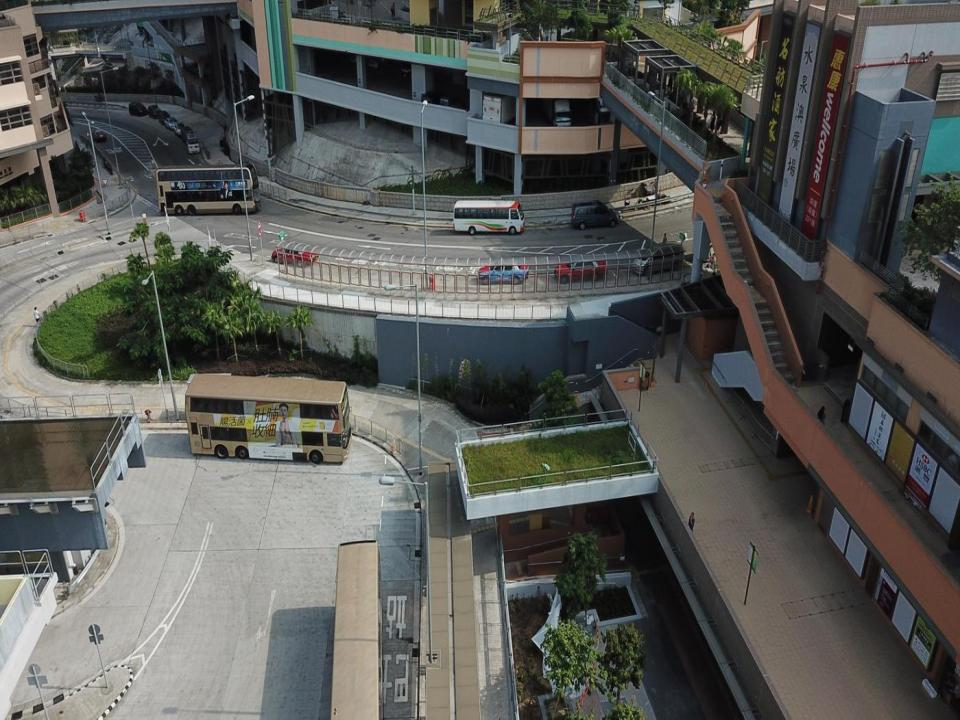bus: (184, 374, 352, 464), (156, 162, 262, 216), (454, 199, 526, 236)
car: (554, 254, 608, 284), (478, 259, 530, 286), (271, 244, 319, 268), (128, 100, 149, 117), (185, 132, 201, 154), (180, 125, 194, 143), (92, 127, 107, 143), (164, 116, 179, 132), (157, 109, 171, 126), (148, 104, 162, 120), (173, 122, 185, 136)
van: (631, 241, 684, 277), (570, 201, 620, 230)
